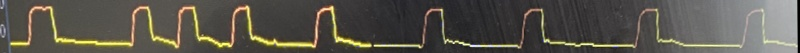normal_pressure: (0, 0, 800, 53)
